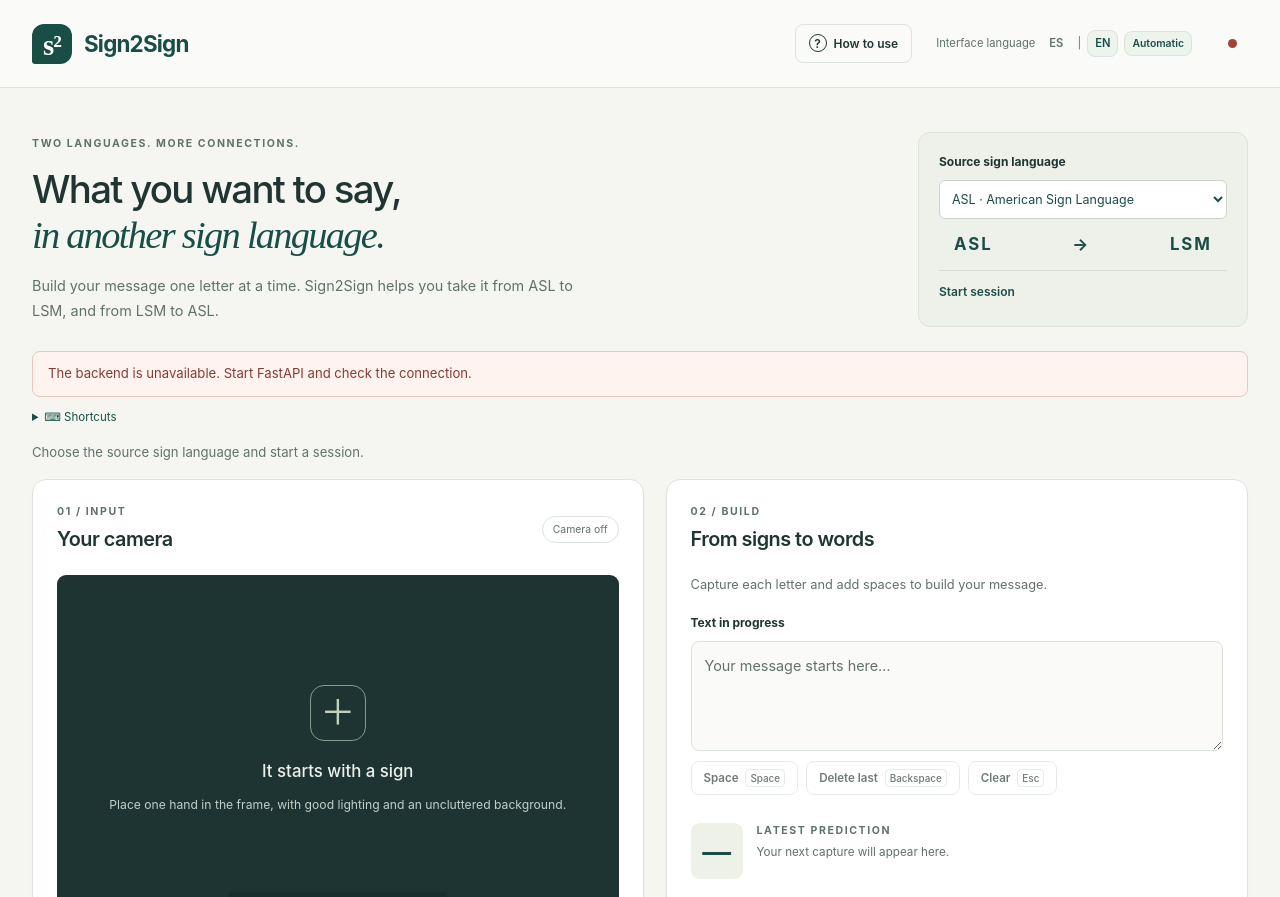
Test: SC-01 session integration › shows backend unavailable without exposing an exception
What coordinates should you click on to do the following:
click the button "ES"
I would click on:
 (1056, 44)
Its box is [1041, 30, 1071, 57].
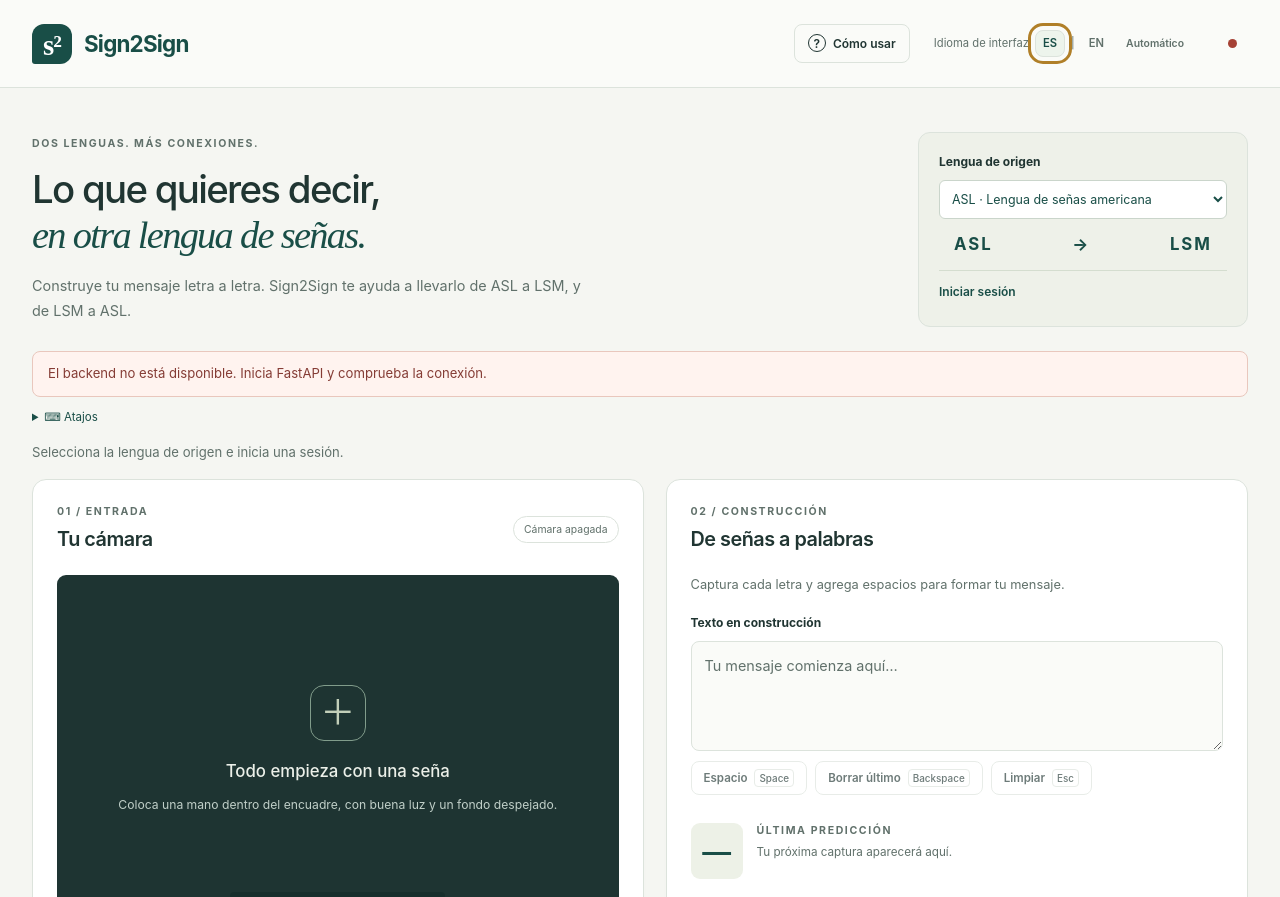
Check: the button named "Backend sin conexión" is shown, box [1216, 28, 1248, 60]
Check: the message "El backend no está disponible. Inicia FastAPI y comprueba la conexión." is shown, box [32, 351, 1248, 397]
